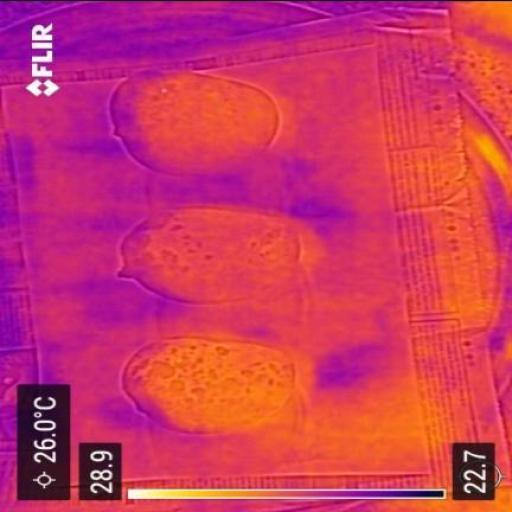alphanso: (121, 206, 301, 303), (112, 72, 279, 175), (124, 338, 294, 433)
